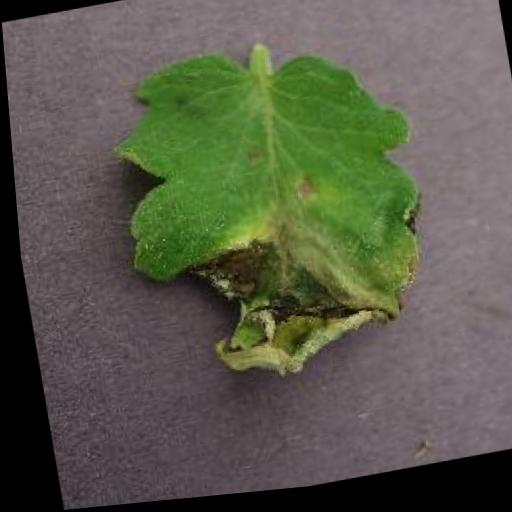Late Blight: (95, 26, 446, 404)
